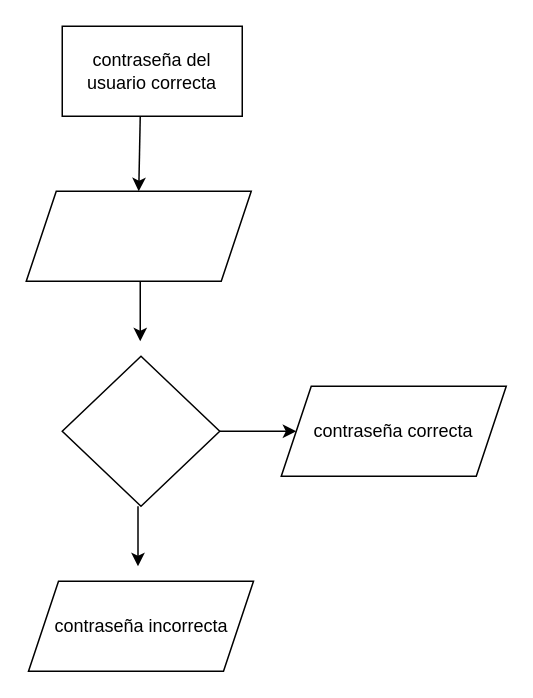
This 533x698 diagram has some shape labels left out. The centre of each missing label's shape, as x and y in pixels:
contraseña es "Python123": (140,430)
solcitar contraseñal al usuario: (138,235)
